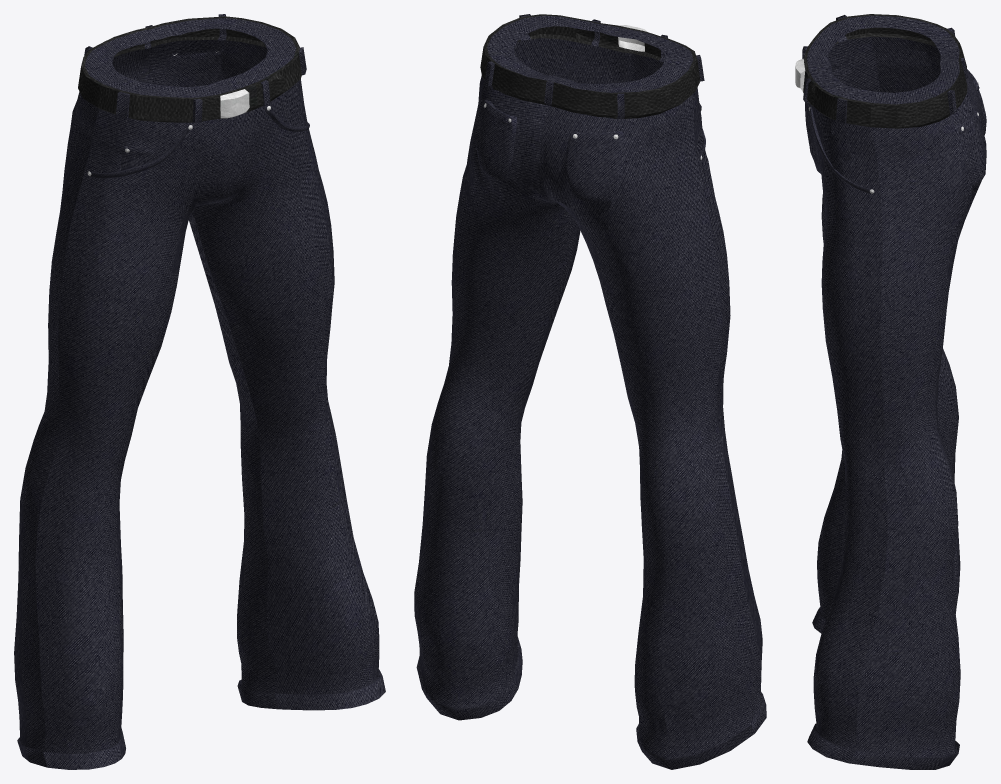
Rendered from elvs-jeans-bootcut.glb.
3 renders of one model, left to right at view 1: azimuth 30°, elevation 25°; view 2: azimuth 150°, elevation 25°; view 3: azimuth 270°, elevation 25°, orthographic. The views are drawn at different scales.
Parts seen in each view (by area): view 1: jeans bootcut; view 2: jeans bootcut; view 3: jeans bootcut.
Boxes of the visible parts, x1,y1,x2,y2 form: jeans bootcut: (14,14,385,769); jeans bootcut: (414,14,766,769); jeans bootcut: (795,14,986,769).
Bounding box in the file's own units: 53.47 × 104 × 27.52.
Materials: 1 (1 with a texture image).
